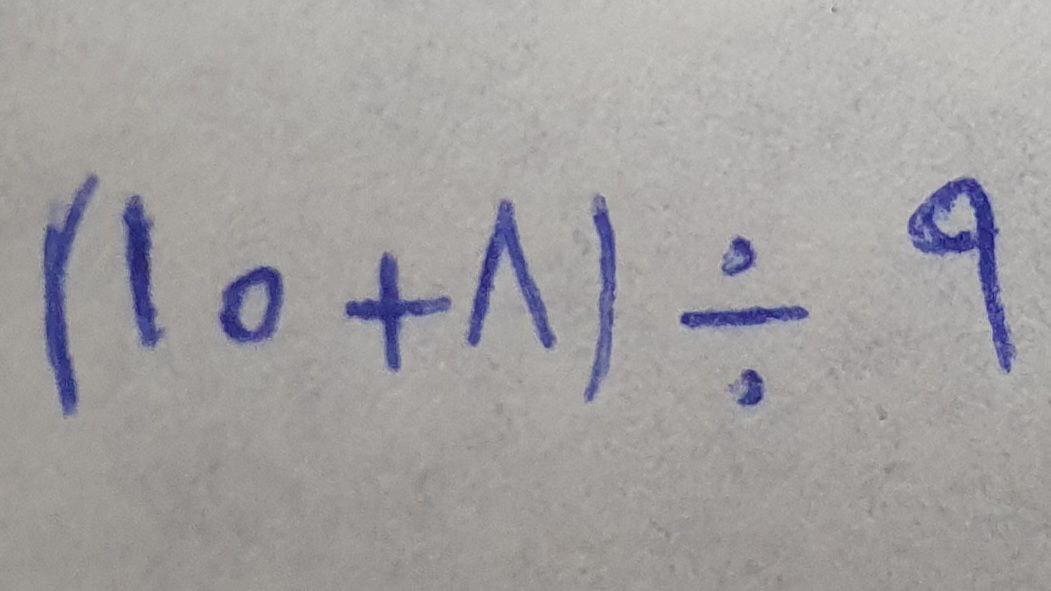character: (680, 235, 810, 408), (908, 175, 1018, 374), (467, 199, 560, 352), (43, 173, 100, 422), (345, 251, 453, 371), (582, 193, 619, 406), (123, 195, 159, 352), (219, 267, 287, 348)
